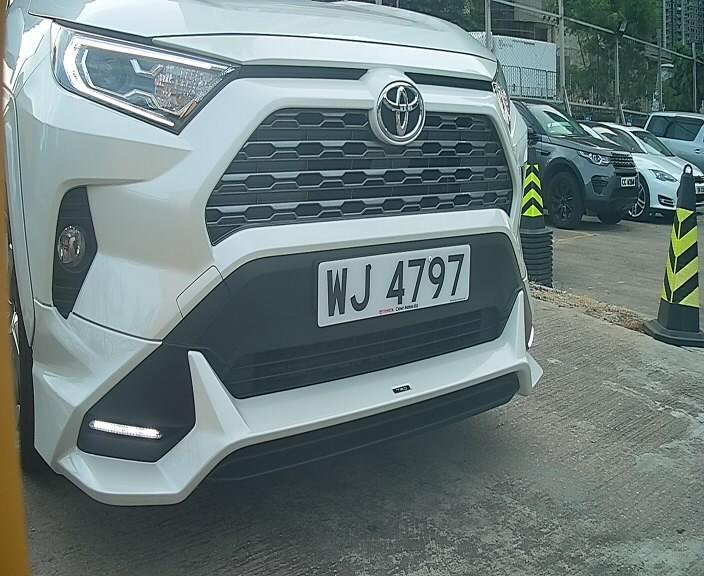privatecar: (13, 29, 573, 487)
